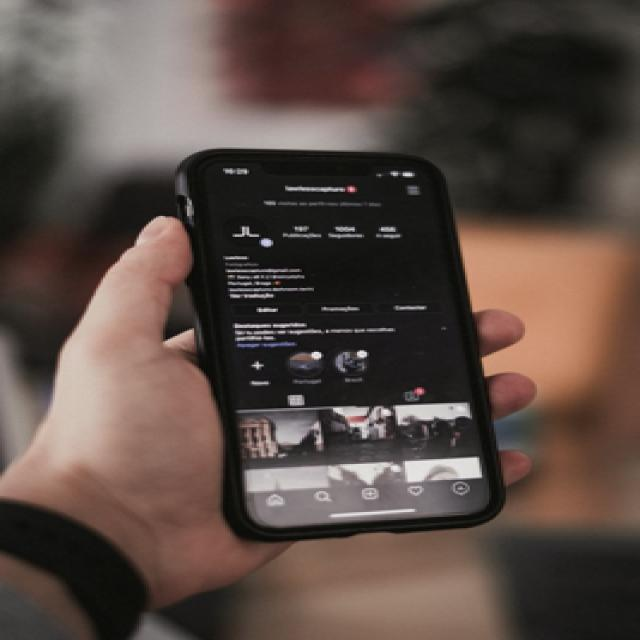cellphone: (172, 145, 506, 540)
